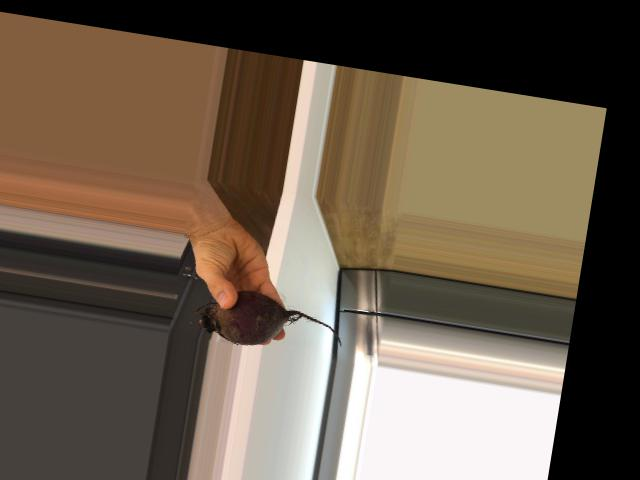beet: (191, 283, 347, 360)
